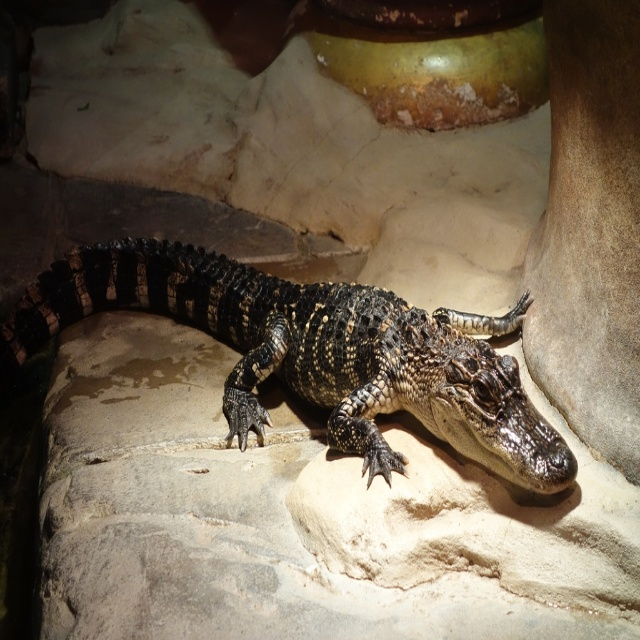Lizard: (10, 229, 616, 545)
